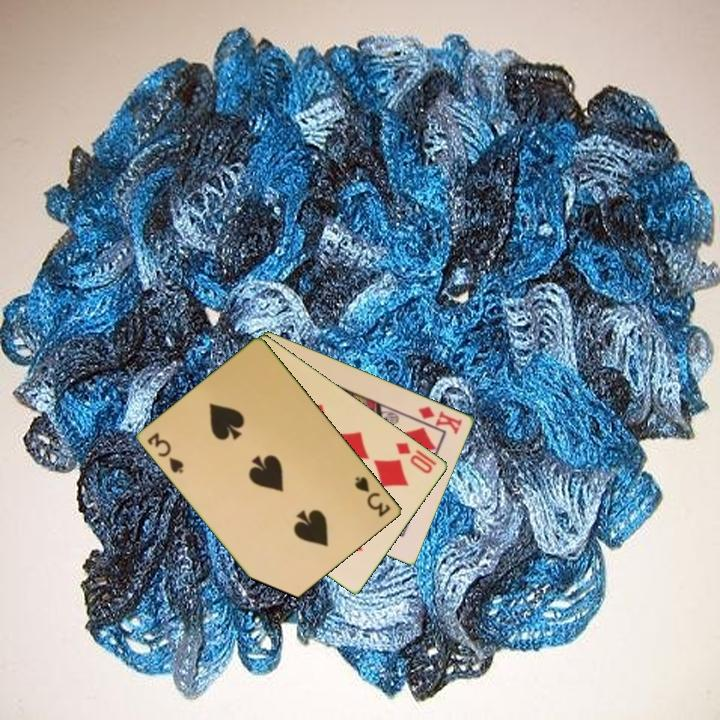10d: (392, 439, 436, 477)
3s: (144, 429, 187, 476), (352, 473, 394, 520)
Kd: (415, 402, 465, 437)
